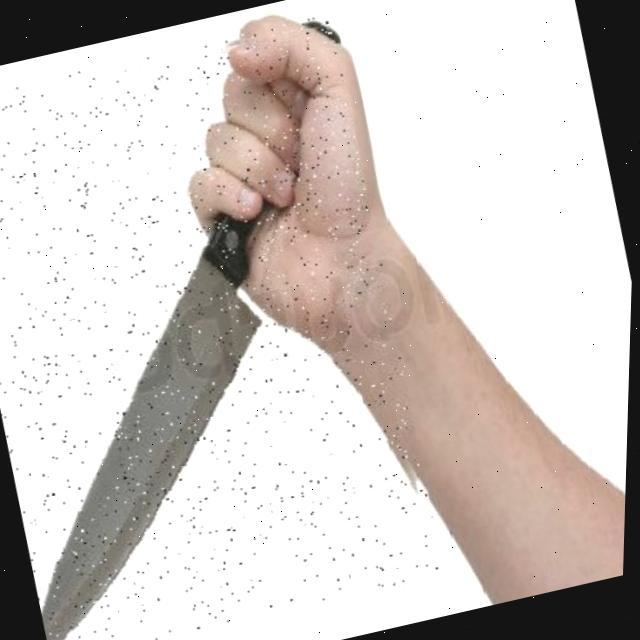knife: (0, 12, 462, 640)
